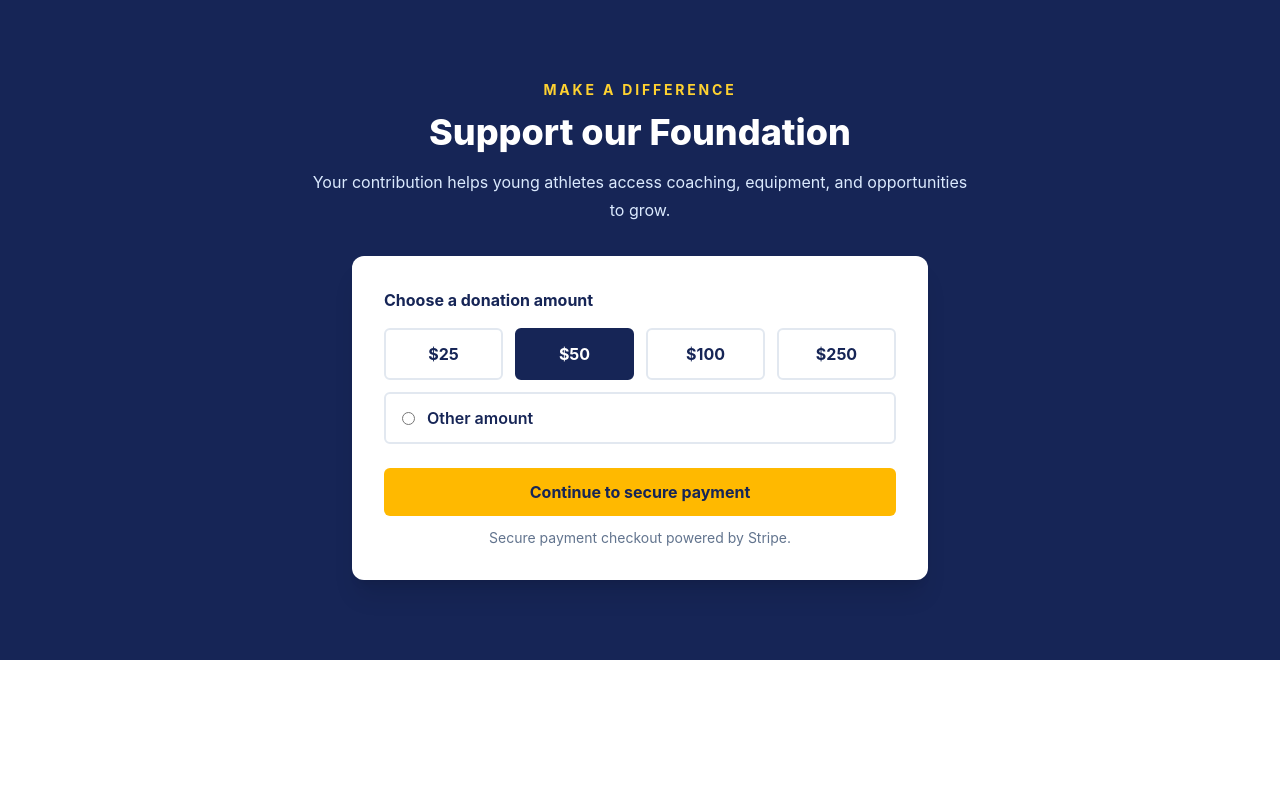
Test: Donation › shows an error and allows retry when checkout cannot be started
Click the button "Continue to secure payment" at (640, 492), box [384,468,896,516]
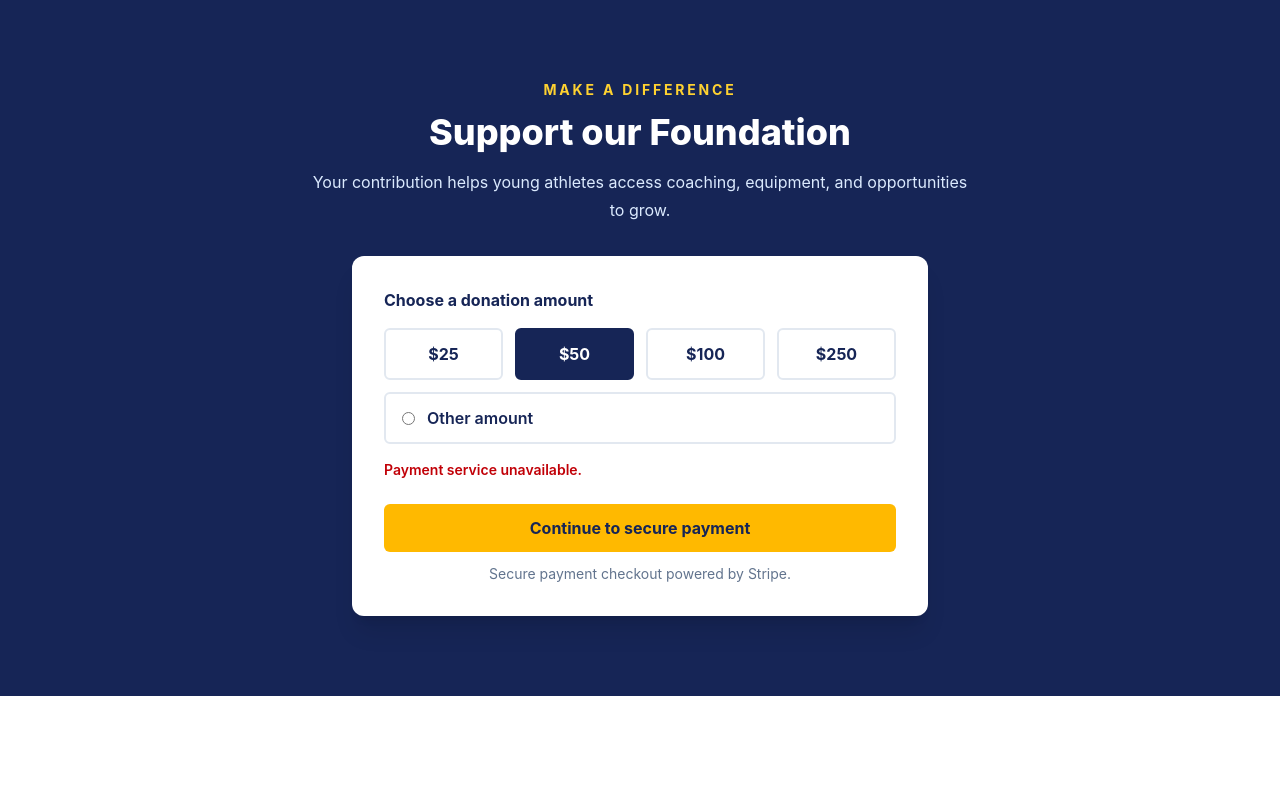
Check: the button "Continue to secure payment" is enabled, box [384,504,896,552]
Check: the message reads "Payment service unavailable.", box [384,461,582,478]
